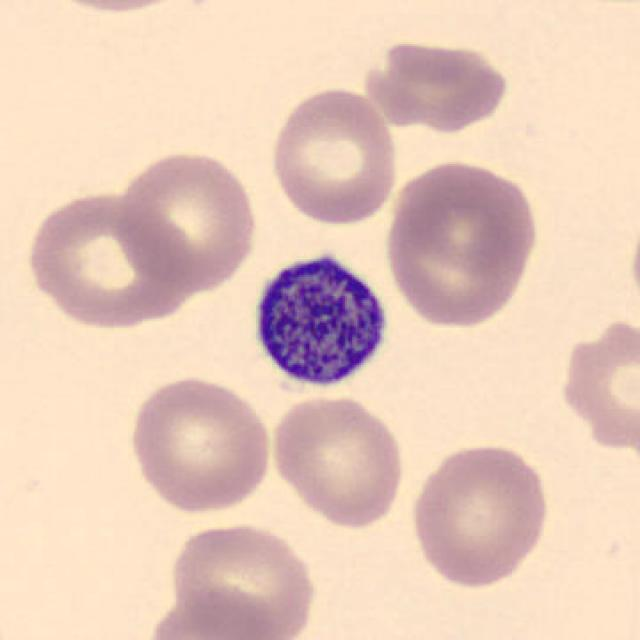Platelets: (244, 240, 396, 398)
RBC: (379, 155, 542, 333), (22, 187, 190, 331), (405, 437, 555, 591), (124, 372, 276, 517), (112, 146, 261, 291), (267, 390, 409, 529), (265, 83, 400, 227), (165, 518, 320, 638), (359, 37, 514, 134), (554, 308, 640, 460), (140, 587, 281, 640), (30, 0, 199, 16), (626, 194, 640, 333)
